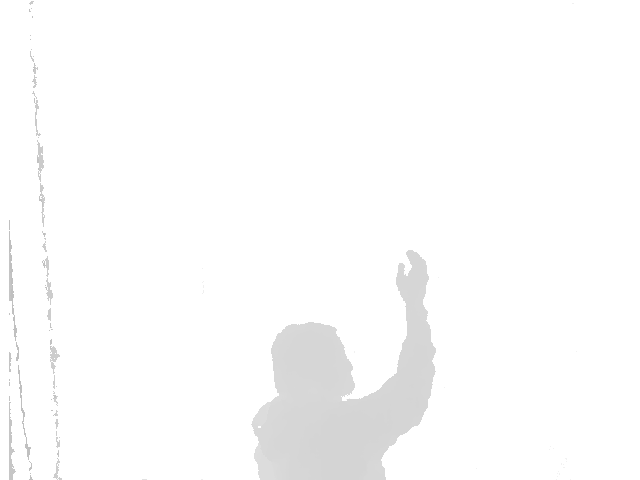hand: (392, 246, 432, 307)
head: (268, 318, 357, 406)
person: (250, 242, 435, 480)
